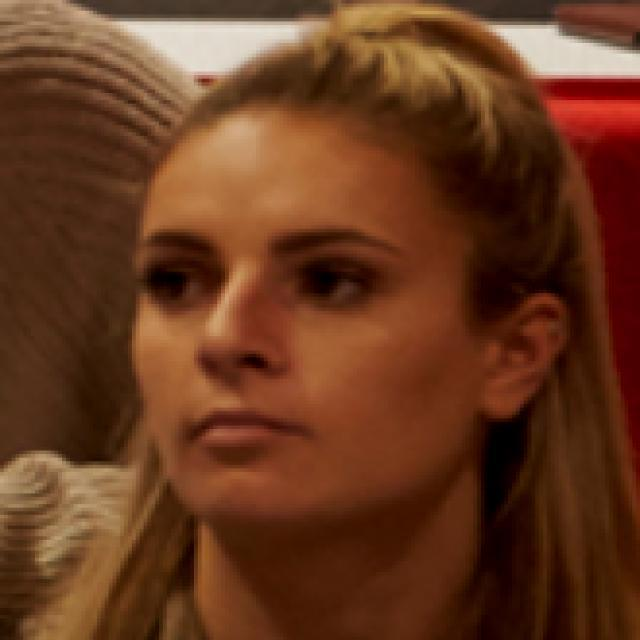Looking forward: (121, 112, 492, 539)
